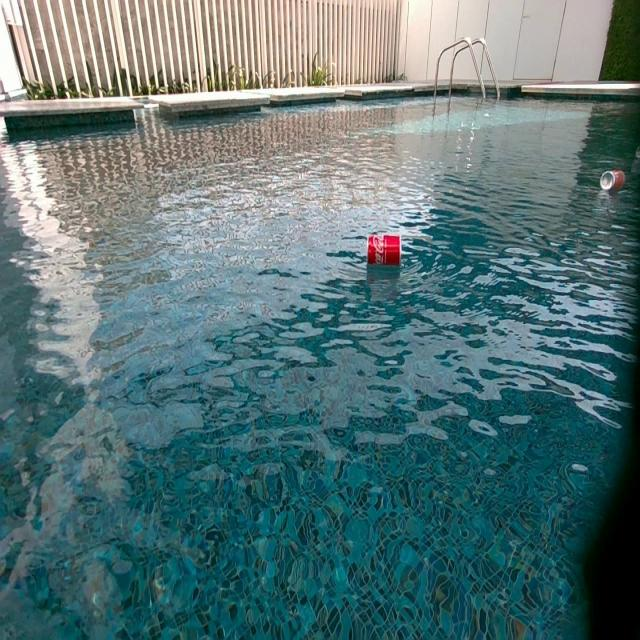Cans: (369, 234, 401, 266), (602, 170, 626, 194)
